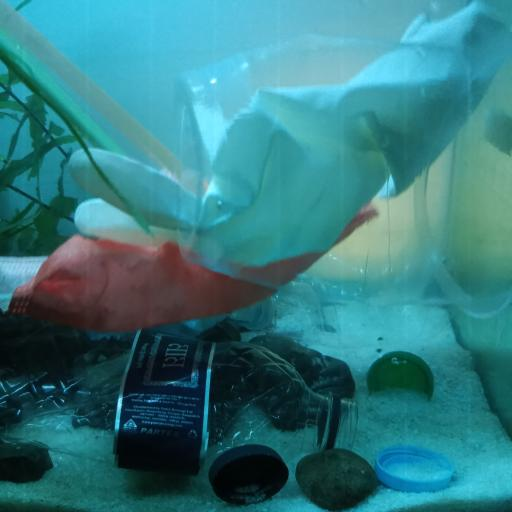bottle_cap: (212, 441, 288, 503), (379, 446, 457, 492), (369, 348, 439, 398)
glove: (63, 7, 502, 263)
mask: (2, 182, 378, 332)
plastic_bottle: (0, 329, 358, 472)
plastic_cup: (174, 25, 512, 323)
plastic_straw: (3, 9, 189, 182), (0, 35, 118, 147)
